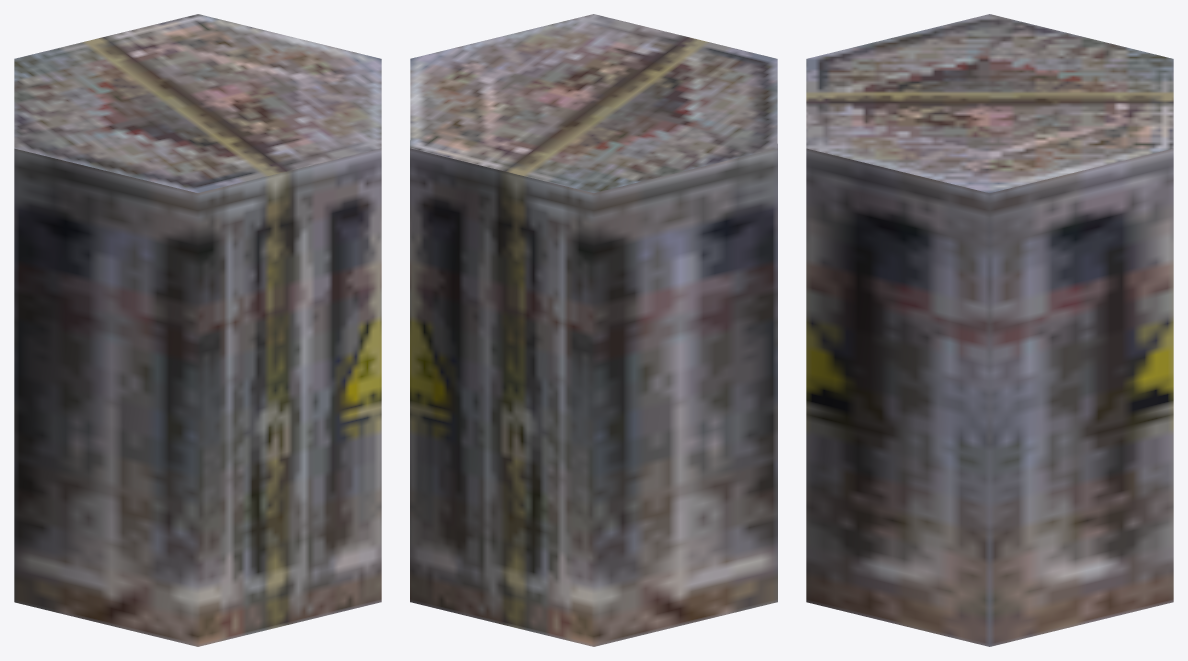
Rendered from FuelDrum2.glb.
3 views of the same model, side by side, from view 1: azimuth 30°, elevation 25°; view 2: azimuth 150°, elevation 25°; view 3: azimuth 270°, elevation 25° (orthographic).
Parts seen in each view (by area): view 1: FUELDRUM2; view 2: FUELDRUM2; view 3: FUELDRUM2.
Part boxes in pixels (x1=…): FUELDRUM2: x1=14, y1=14, x2=381, y2=646; FUELDRUM2: x1=410, y1=14, x2=777, y2=646; FUELDRUM2: x1=806, y1=14, x2=1173, y2=646.
Size of the model in its own units: 1.06 by 1.25 by 0.919.
1 material, 1 textured.
